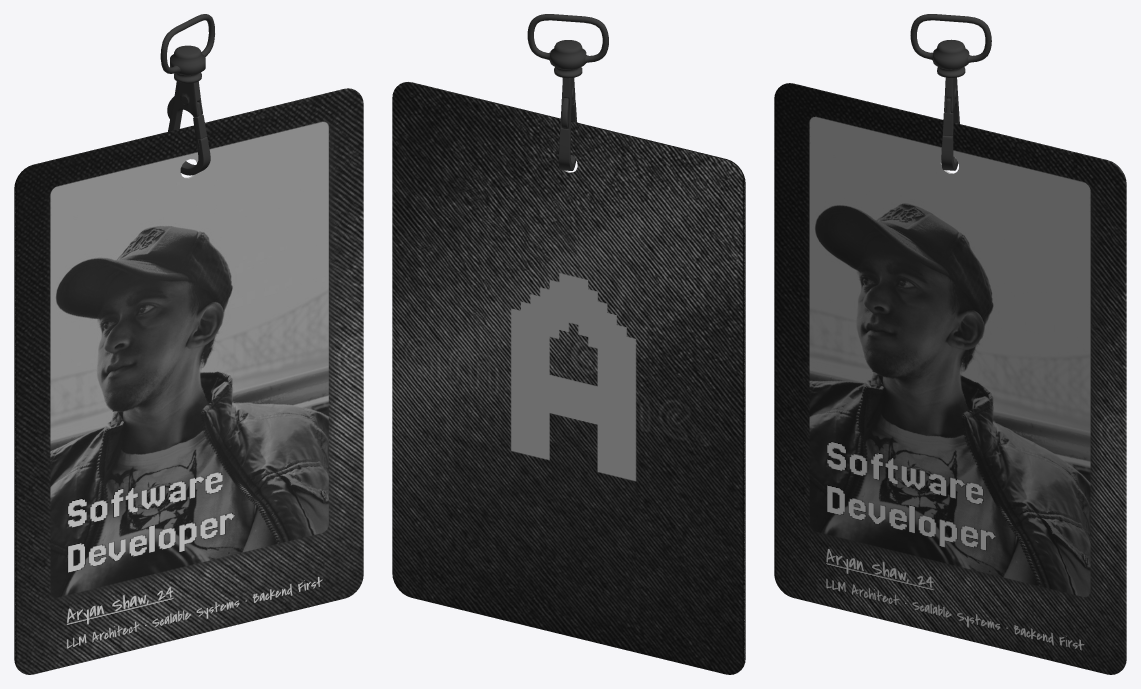
The model's file is card.glb.
3 renders of one model, left to right at view 1: azimuth 30°, elevation 25°; view 2: azimuth 150°, elevation 25°; view 3: azimuth 330°, elevation 25°, orthographic.
Visible parts, largest first — view 1: card, clamp, clip; view 2: card, clip, clamp; view 3: card, clip, clamp.
Part boxes in pixels (box(x1,y1,x2,y2)): card: box(14, 88, 363, 674); clamp: box(167, 81, 210, 175); clip: box(160, 14, 214, 83); card: box(392, 82, 745, 674); clip: box(527, 14, 608, 78); clamp: box(558, 77, 577, 170); card: box(774, 83, 1126, 674); clip: box(910, 14, 991, 77); clamp: box(941, 77, 959, 170).
Bounding box in the file's own units: 0.7164 × 1.21 × 0.0903.
2 materials, 1 textured.
